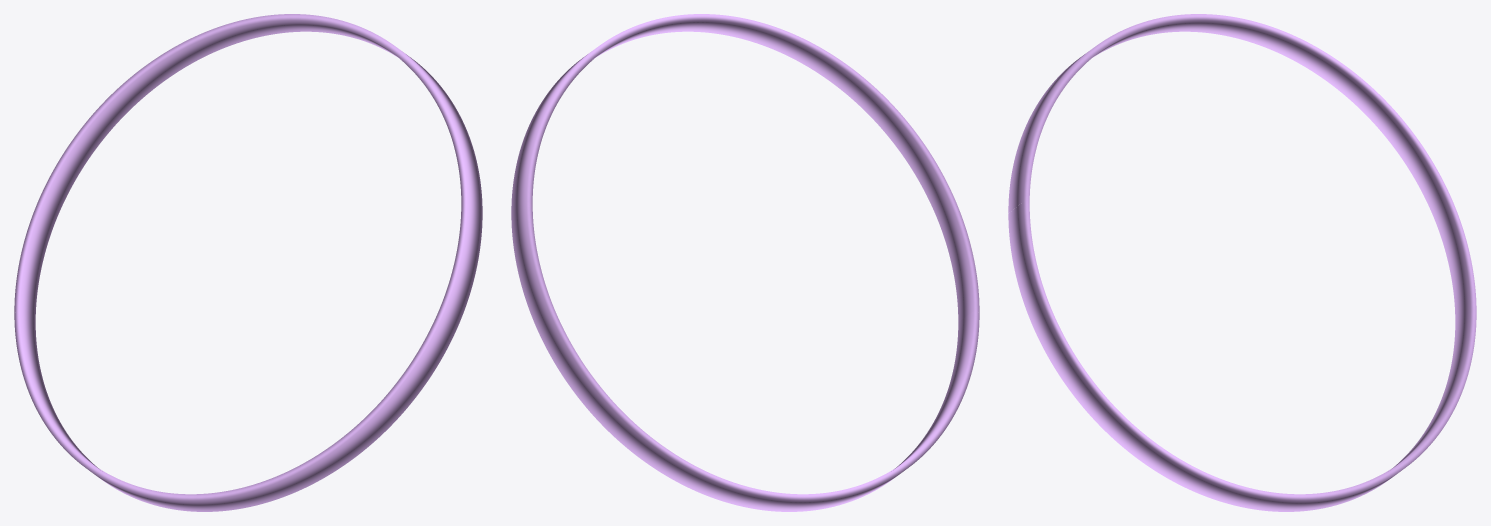
File: coil_coil_6_tube.gltf
3 renders of one model, left to right at view 1: azimuth 30°, elevation 25°; view 2: azimuth 150°, elevation 25°; view 3: azimuth 330°, elevation 25°, orthographic.
Visible parts, largest first — view 1: Renderer Node; view 2: Renderer Node; view 3: Renderer Node.
Boxes of the visible parts, bbox=[...] form: Renderer Node: bbox=[14, 14, 482, 511]; Renderer Node: bbox=[511, 14, 979, 511]; Renderer Node: bbox=[1008, 14, 1476, 511].
Size of the model in its own units: 0.6084 by 0.6084 by 0.035.
